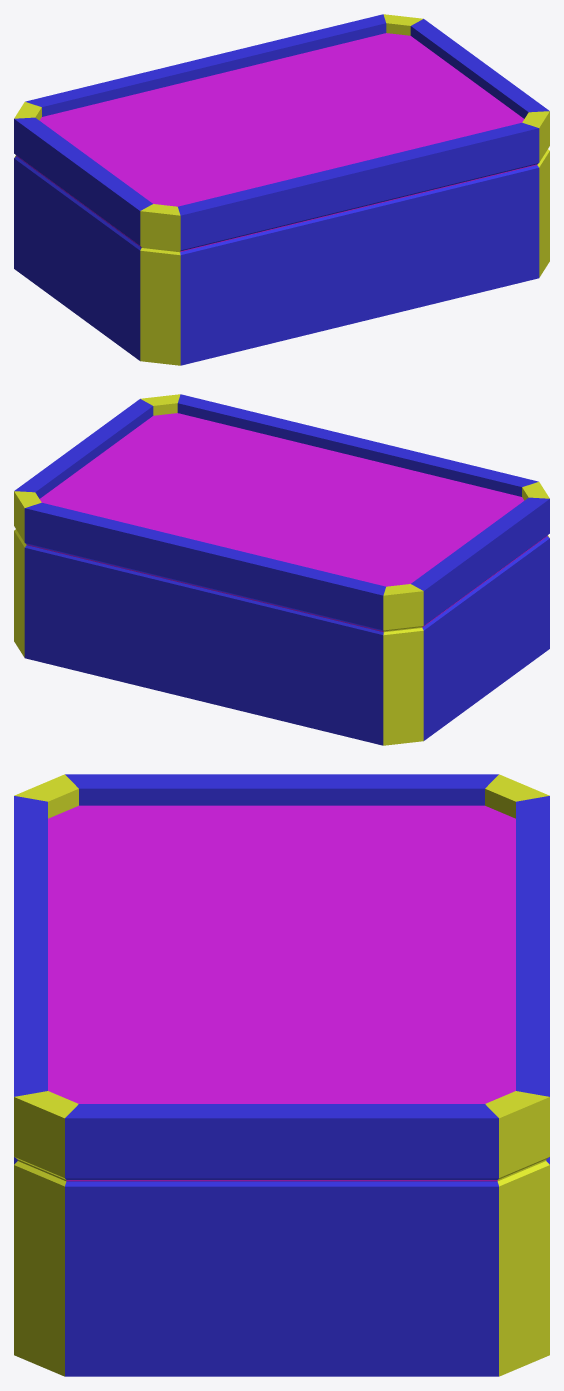
3 views of the same model, one above another, from view 1: azimuth 30°, elevation 25°; view 2: azimuth 150°, elevation 25°; view 3: azimuth 270°, elevation 25° (orthographic). The views are drawn at different scales.
Parts seen in each view (by area): view 1: Cube.012, Cube.011; view 2: Cube.012, Cube.011; view 3: Cube.012, Cube.011.
Boxes of the visible parts, x1=… form: Cube.012: x1=14, y1=14, x2=549, y2=252; Cube.011: x1=14, y1=149, x2=549, y2=365; Cube.012: x1=14, y1=394, x2=549, y2=632; Cube.011: x1=14, y1=529, x2=549, y2=745; Cube.012: x1=14, y1=774, x2=549, y2=1181; Cube.011: x1=14, y1=1157, x2=549, y2=1376.
Bounding box in the file's own units: 2 × 0.7 × 1.32.
